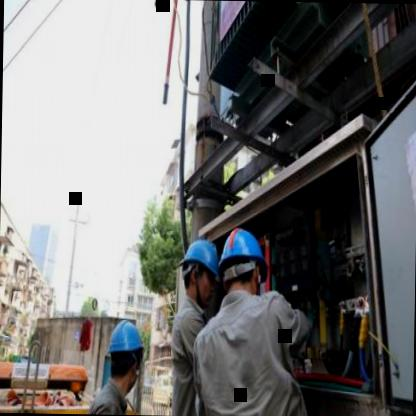helmet: (218, 224, 268, 309), (177, 234, 223, 308), (106, 316, 144, 396)
